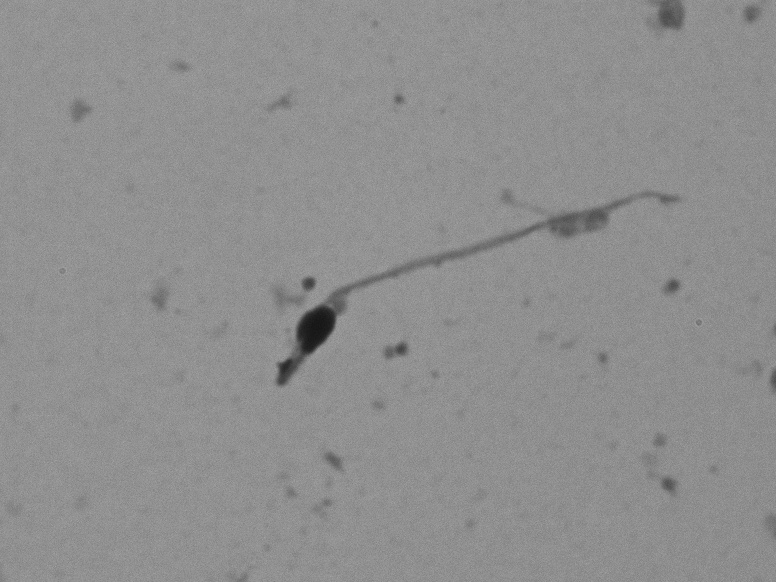Abnormal: (235, 162, 713, 393)
